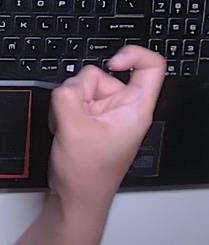anticlockwise: (44, 39, 169, 205)
